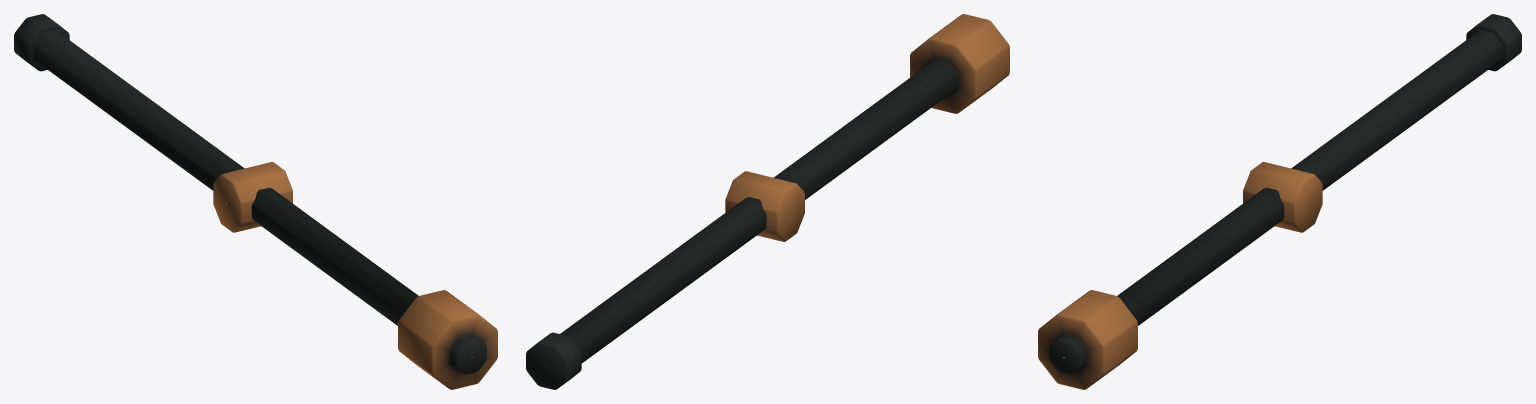
File: trebuchet_launcher_arm.glb
3 renders of one model, left to right at view 1: azimuth 30°, elevation 25°; view 2: azimuth 150°, elevation 25°; view 3: azimuth 330°, elevation 25°, orthographic.
Parts seen in each view (by area): view 1: Arm; view 2: Arm; view 3: Arm.
Boxes of the visible parts, x1,y1,x2,y2 form: Arm: [14, 14, 497, 389]; Arm: [526, 14, 1009, 389]; Arm: [1038, 14, 1521, 389].
Bounding box in the file's own units: 1.76 × 1.76 × 20.
